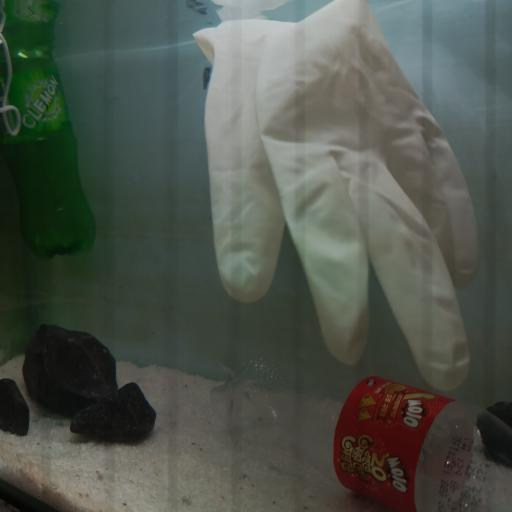bottle_cap: (202, 64, 216, 91)
glove: (195, 8, 485, 398)
mask: (0, 16, 23, 138)
plastic_bottle: (205, 348, 510, 512), (9, 25, 98, 263)
